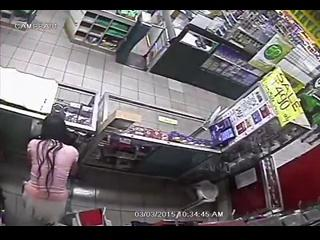Normal: (21, 115, 80, 224)
